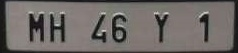character: (49, 9, 65, 43), (28, 10, 44, 43), (91, 12, 107, 43), (110, 12, 126, 42), (153, 11, 168, 42), (197, 10, 209, 42)
